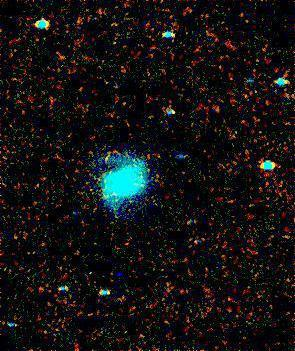star: (116, 183, 146, 213)
